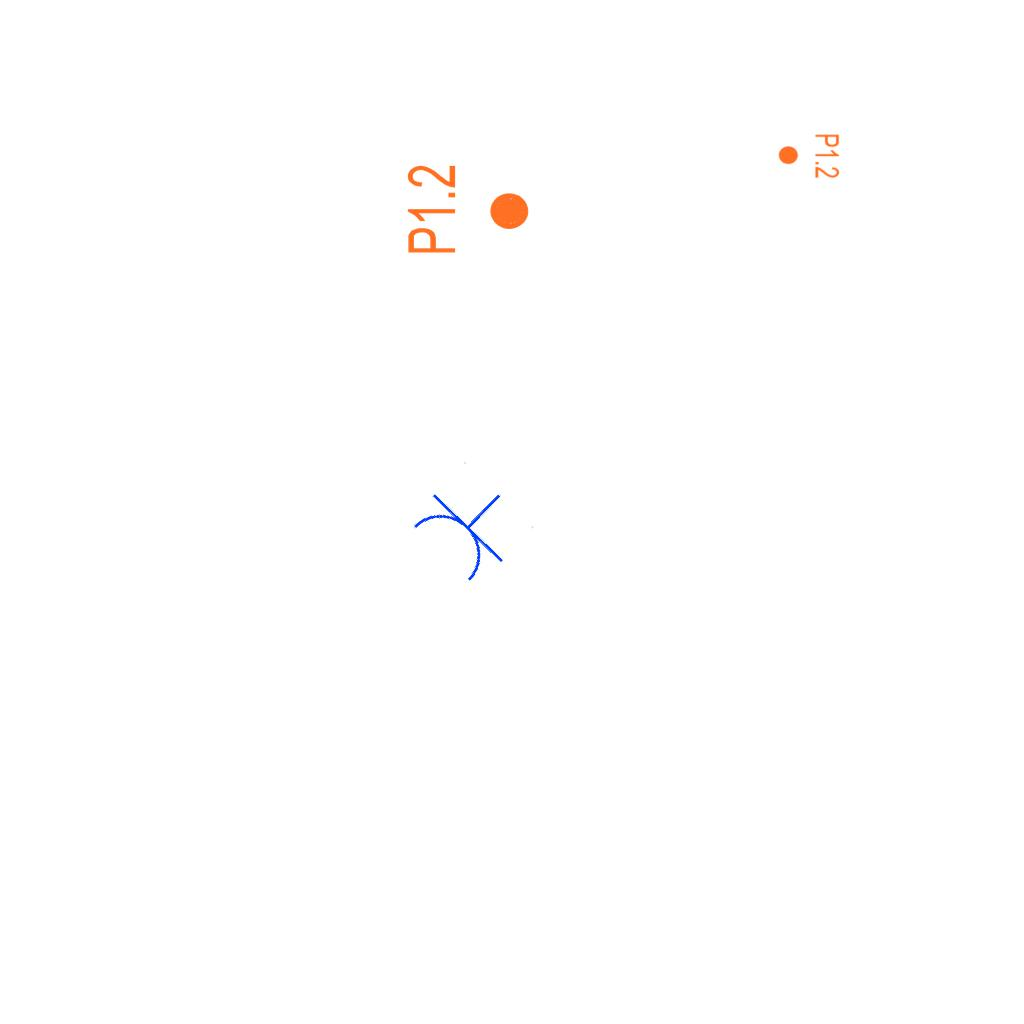Downlight_LED_Einbauleuchten_Flur: (404, 163, 532, 256), (777, 133, 841, 179)
Schukosteckdose_einfach: (402, 459, 536, 592)
